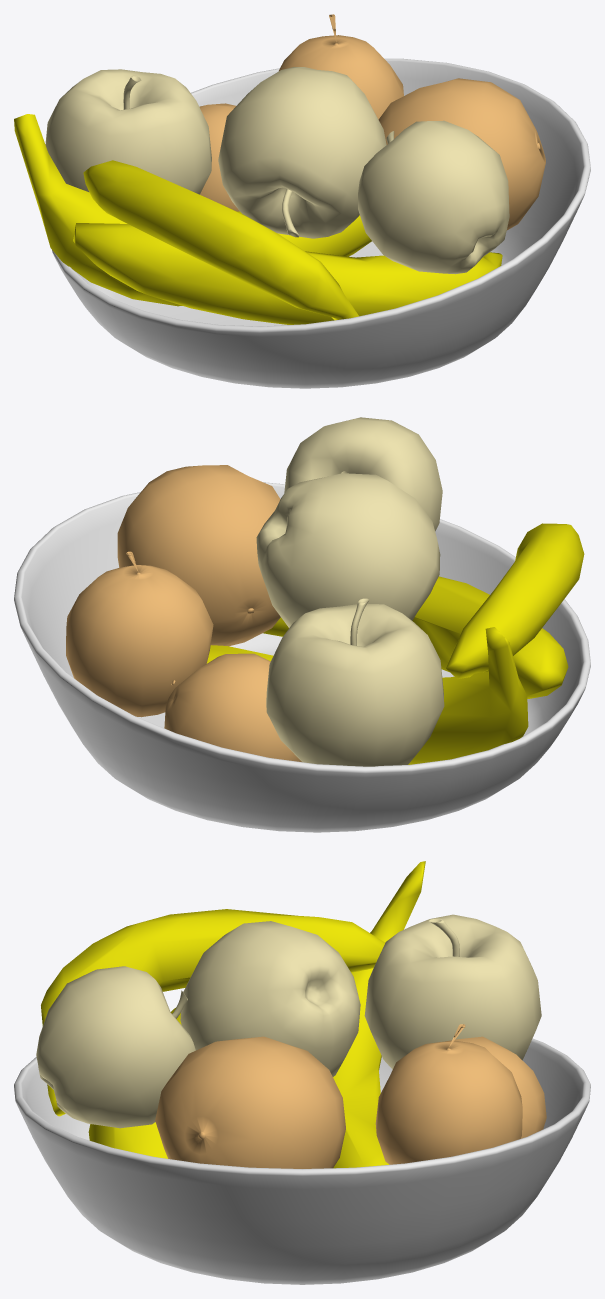
File: Fruit_vase.fbx
3 renders of one model, top to bottom at view 1: azimuth 30°, elevation 25°; view 2: azimuth 150°, elevation 25°; view 3: azimuth 270°, elevation 25°, orthographic. The views are drawn at different scales.
Parts seen in each view (by area): view 1: Fruits, Fruit_vase; view 2: Fruits, Fruit_vase; view 3: Fruits, Fruit_vase.
Part boxes in pixels (<box>): Fruits: <box>14,14,545,324</box>; Fruit_vase: <box>52,58,590,388</box>; Fruits: <box>66,417,584,766</box>; Fruit_vase: <box>14,482,590,832</box>; Fruits: <box>36,861,546,1168</box>; Fruit_vase: <box>14,1038,590,1284</box>.
Size of the model in its own units: 24.06 by 11.44 by 23.32.
